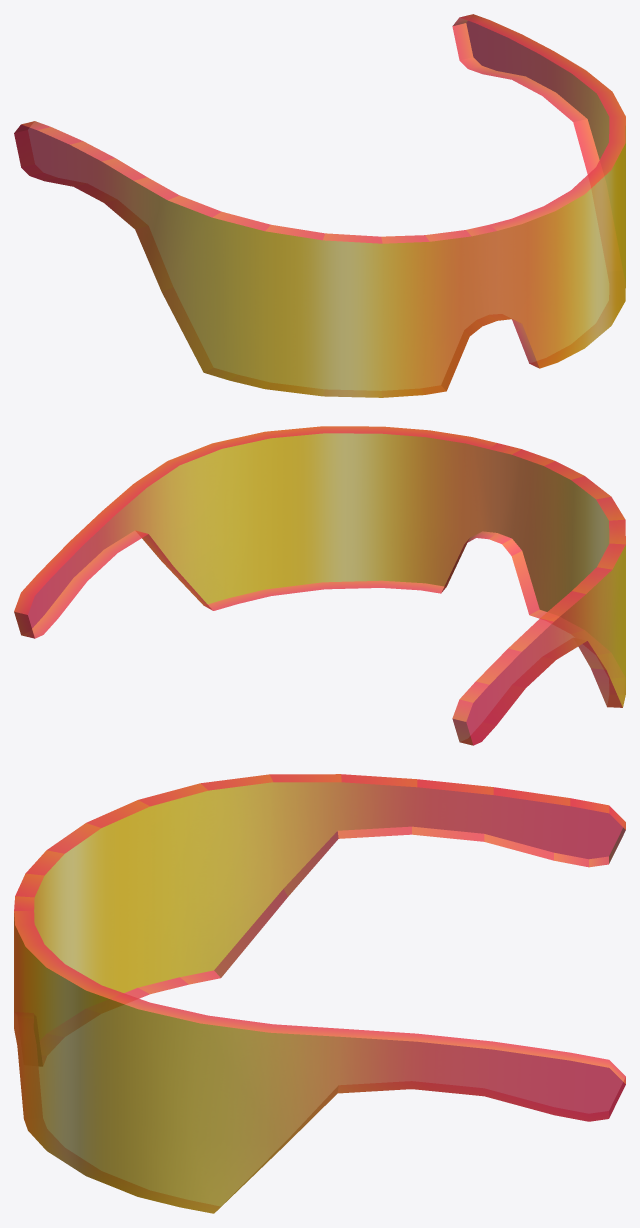
3 views of the same model, one above another, from view 1: azimuth 30°, elevation 25°; view 2: azimuth 150°, elevation 25°; view 3: azimuth 270°, elevation 25° (orthographic). The views are drawn at different scales.
Parts seen in each view (by area): view 1: Wolf3D_Glasses; view 2: Wolf3D_Glasses; view 3: Wolf3D_Glasses.
Part boxes in pixels (<box>): Wolf3D_Glasses: <box>14,14,625,397</box>; Wolf3D_Glasses: <box>14,426,625,745</box>; Wolf3D_Glasses: <box>14,774,625,1213</box>.
Size of the model in its own units: 0.1663 by 0.0559 by 0.1637.
1 material, 1 textured.
